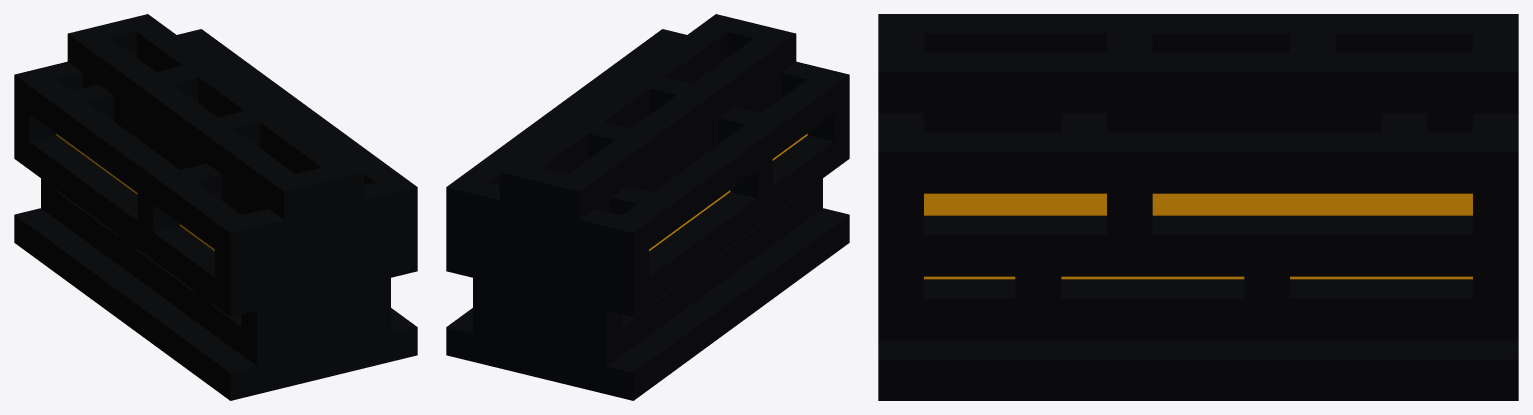
The model's file is MiddleSmall1.FBX.
The picture shows the model from 3 angles, left to right: view 1: azimuth 30°, elevation 25°; view 2: azimuth 150°, elevation 25°; view 3: azimuth 270°, elevation 25°; orthographic projection. The views are drawn at different scales.
Parts seen in each view (by area): view 1: MiddleSmall1; view 2: MiddleSmall1; view 3: MiddleSmall1.
Boxes of the visible parts, x1,y1,x2,y2 form: MiddleSmall1: [14, 14, 417, 400]; MiddleSmall1: [446, 14, 849, 400]; MiddleSmall1: [878, 14, 1518, 400].
Bounding box in the file's own units: 7 × 14 × 7.
